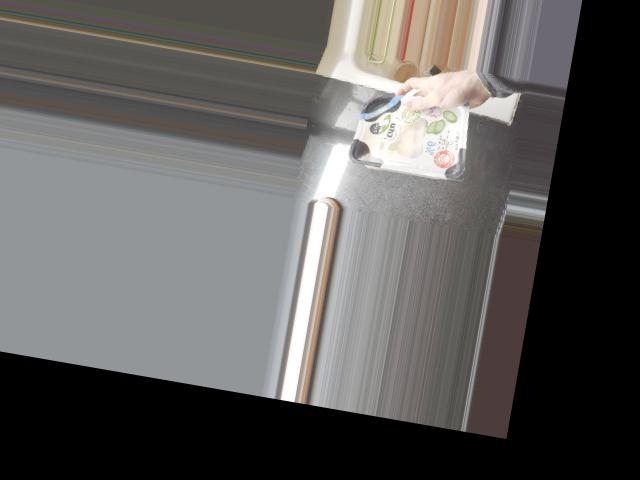cheese: (349, 79, 476, 182)
